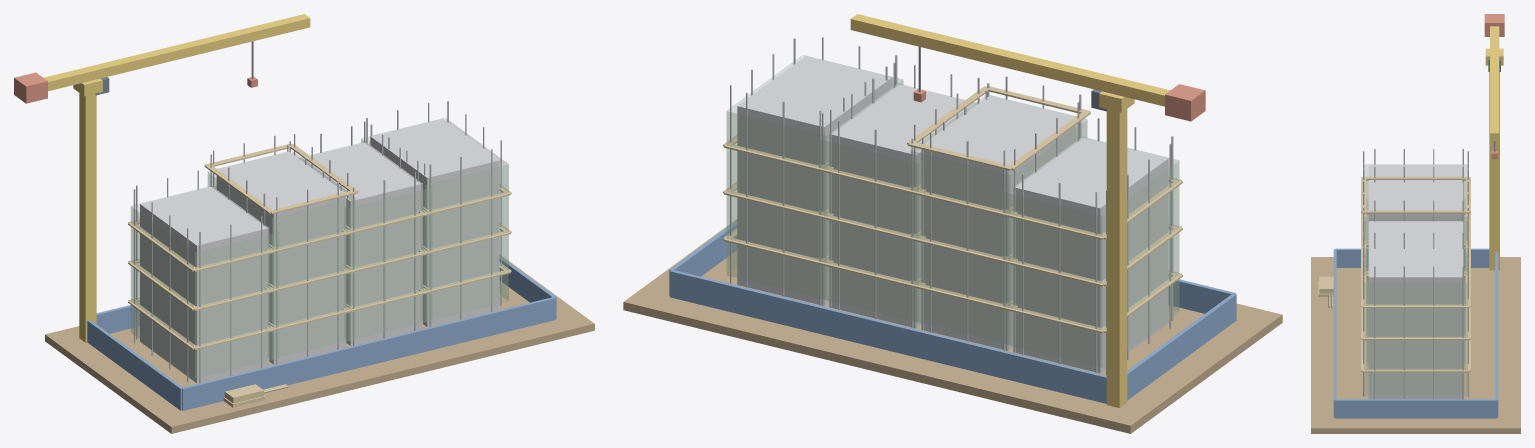
Rendered from num-2-construction.glb.
The picture shows the model from 3 angles, left to right: view 1: azimuth 30°, elevation 25°; view 2: azimuth 150°, elevation 25°; view 3: azimuth 270°, elevation 25°; orthographic projection. The views are drawn at different scales.
Size of the model in its own units: 42.3 by 24.55 by 20.
